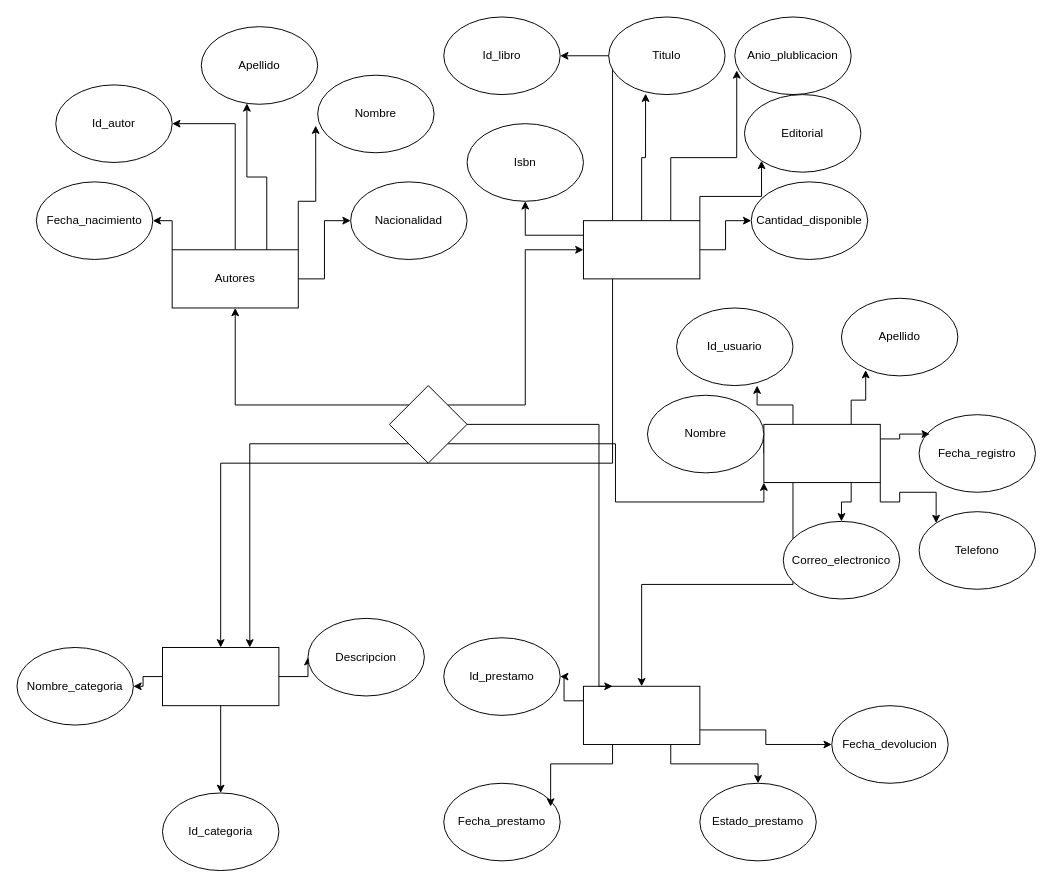
This 1052x888 diagram has some shape labels left out. The centre of each missing label's shape, as x and y in pixels:
Bliblioteca: (x=427, y=424)
Categorias: (x=220, y=676)
Libros: (x=641, y=249)
Prestamos: (x=641, y=714)
Usuarios: (x=821, y=453)
